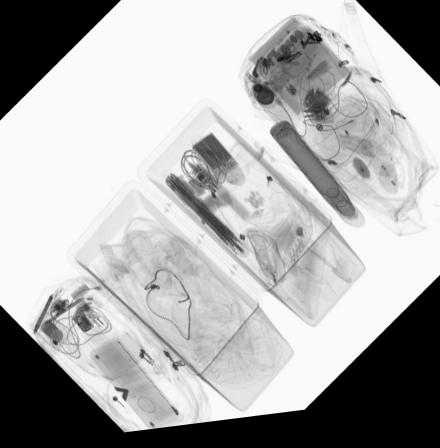Powerbank: (189, 137, 240, 186)
